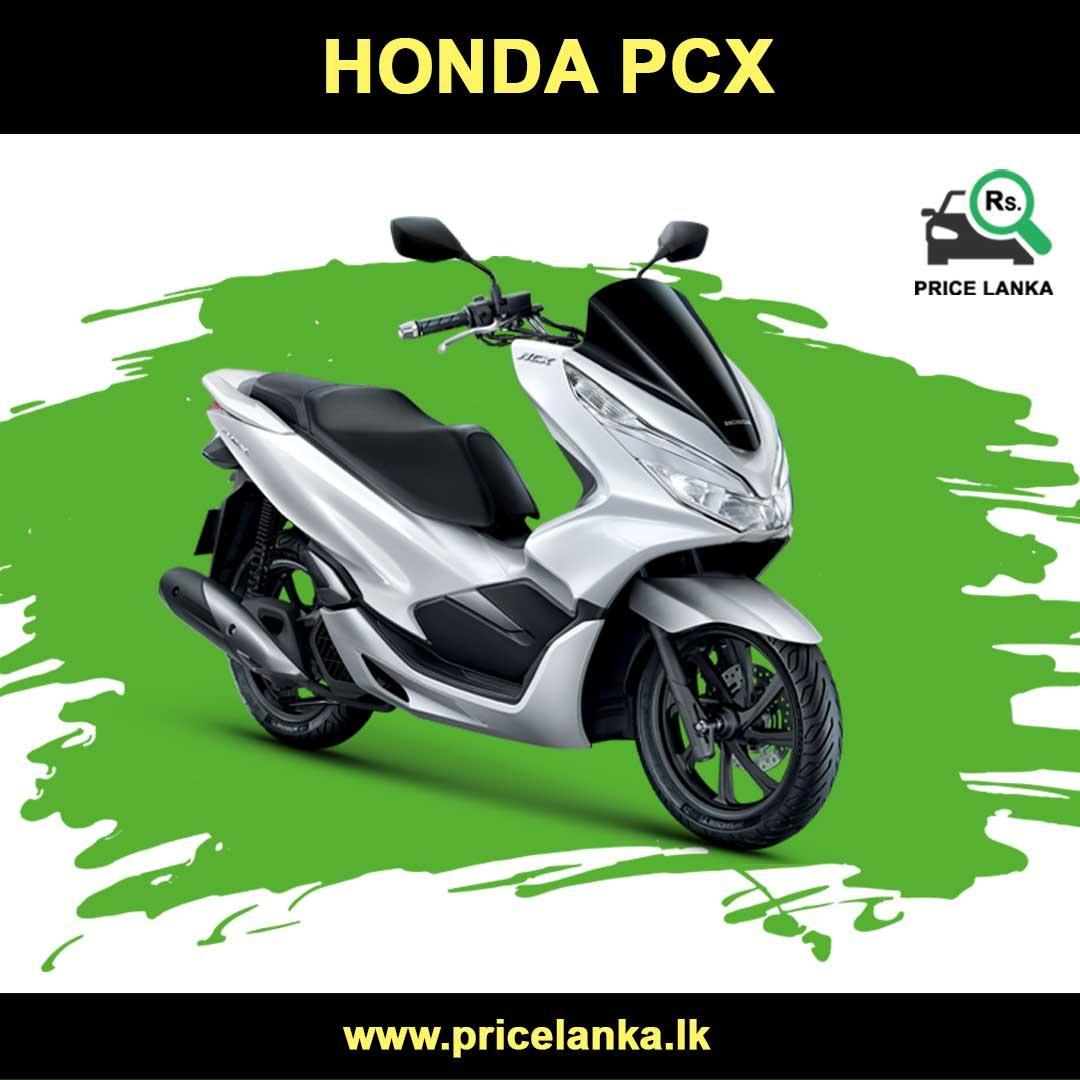motorbike: (157, 217, 843, 852)
